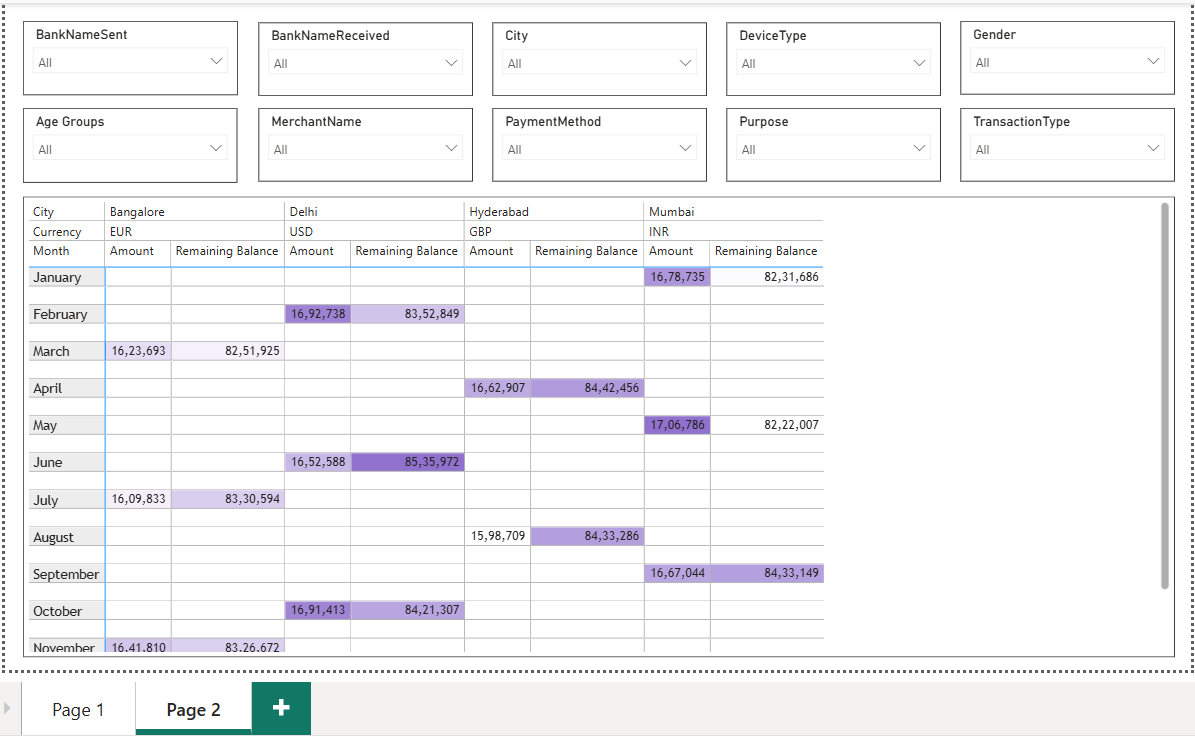

The page's visual inventory and layout, read from the dashboard file:
{"tool":"powerbi","page":{"name":"Page 2","canvas":[1280,720],"ordinal":1},"visuals":[{"type":"slicer","fields":{"Values":["UPI Transactions.BankNameSent"]},"box":[20,20,232,80],"z":0},{"type":"slicer","fields":{"Values":["UPI Transactions.BankNameReceived"]},"box":[273.2,21,231.5,79.3],"z":1000},{"type":"slicer","fields":{"Values":["UPI Transactions.City"]},"box":[525.9,21,231.5,79.3],"z":2000},{"type":"slicer","fields":{"Values":["UPI Transactions.DeviceType"]},"box":[778.7,21,231.5,79.3],"z":3000},{"type":"slicer","fields":{"Values":["UPI Transactions.Gender"]},"box":[1031.4,19.4,231.5,79.3],"z":4000},{"type":"slicer","fields":{"Values":["UPI Transactions.Age Groups"]},"box":[19.4,113.7,231.5,81],"z":5000},{"type":"slicer","fields":{"Values":["UPI Transactions.MerchantName"]},"box":[273.6,113.7,231.5,79.3],"z":6000},{"type":"slicer","fields":{"Values":["UPI Transactions.PaymentMethod"]},"box":[526.2,113.7,231.5,79.3],"z":7000},{"type":"slicer","fields":{"Values":["UPI Transactions.Purpose"]},"box":[778.8,113.7,231.5,79.3],"z":8000},{"type":"slicer","fields":{"Values":["UPI Transactions.TransactionType"]},"box":[1031.4,113.7,231.5,79.3],"z":9000},{"type":"pivotTable","title":"Transactions By Month","fields":{"Values":["Sum(UPI Transactions.Amount)","Sum(UPI Transactions.RemainingBalance)"],"Rows":["UPI Transactions.TransactionDate.Variation.Date Hierarchy.Month"],"Columns":["UPI Transactions.City","UPI Transactions.Currency"]},"box":[19.4,208.9,1243.6,497.1],"z":10000}]}

Visuals, with their boxes on the page's 1280x720 design canvas (x1, y1, x2, y2). These are canvas units, not pixel positions in the 1195x736 screenshot, which may show the page scaled, cropped or inside an application window:
slicer - UPI Transactions.BankNameSent: 20/20/252/100
slicer - UPI Transactions.BankNameReceived: 273/21/505/100
slicer - UPI Transactions.City: 526/21/757/100
slicer - UPI Transactions.DeviceType: 779/21/1010/100
slicer - UPI Transactions.Gender: 1031/19/1263/99
slicer - UPI Transactions.Age Groups: 19/114/251/195
slicer - UPI Transactions.MerchantName: 274/114/505/193
slicer - UPI Transactions.PaymentMethod: 526/114/758/193
slicer - UPI Transactions.Purpose: 779/114/1010/193
slicer - UPI Transactions.TransactionType: 1031/114/1263/193
"Transactions By Month" pivotTable: 19/209/1263/706
